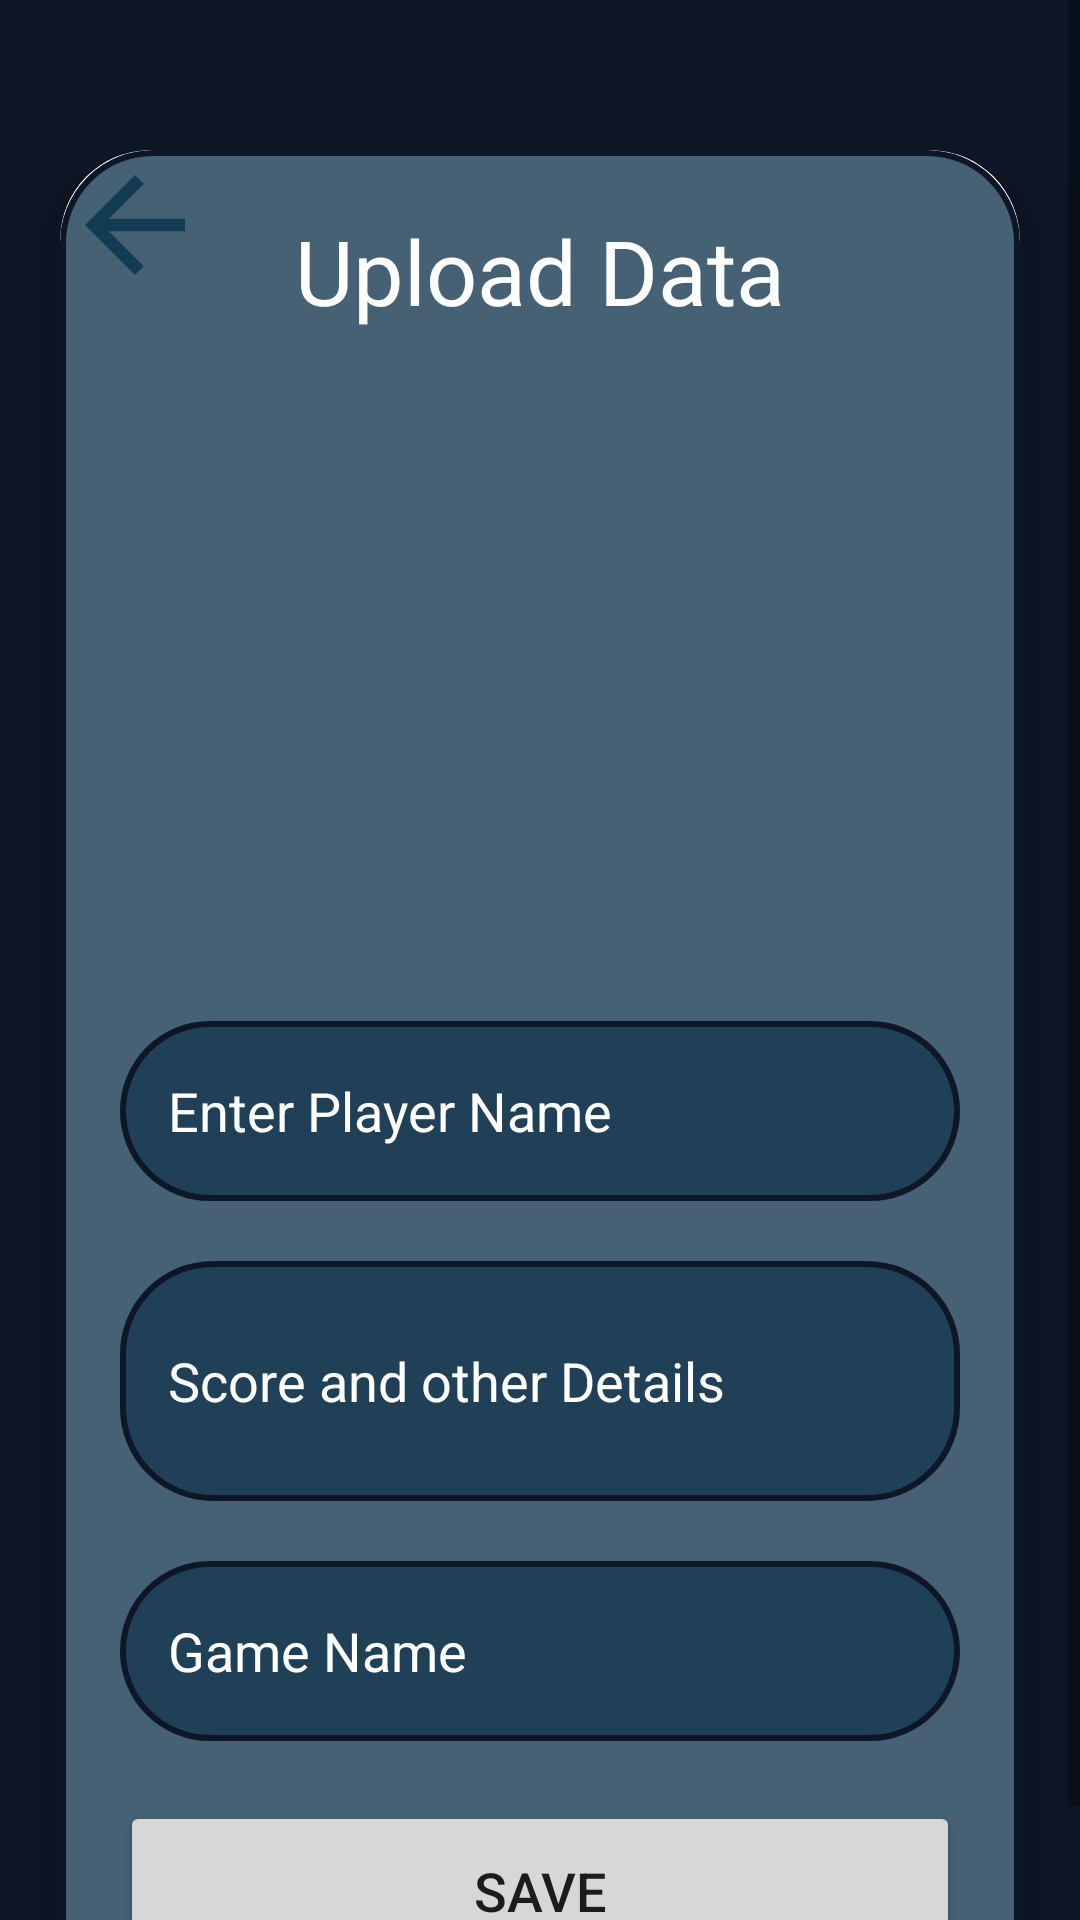

Icon click points for this 1080*1920 phone screenshot, format point (x, y):
arrow back: point (135, 225)
